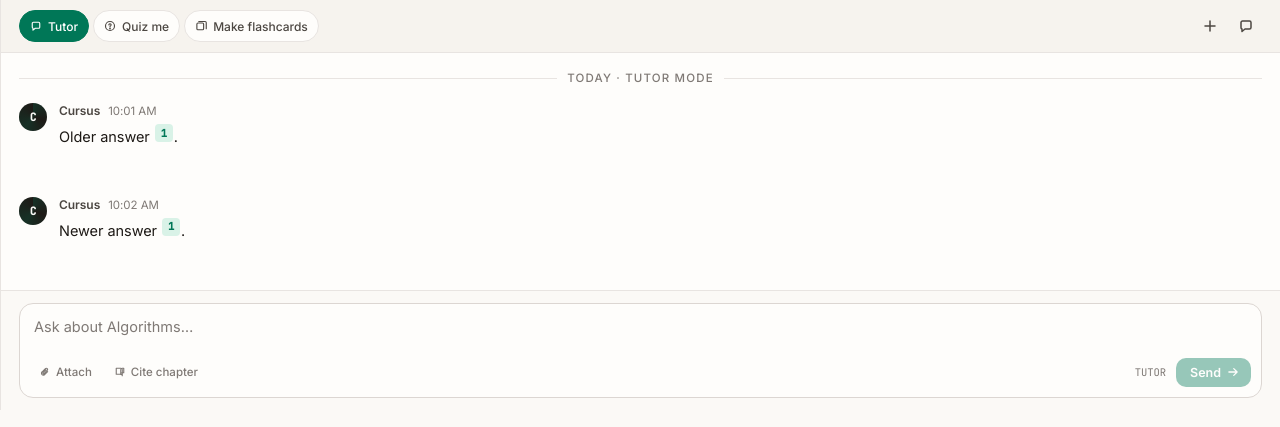
Test: ChatPane citations › opens the citation attached to the clicked assistant message
The width and height of the screenshot is (1280, 427).
Expected: the text "Older answer 1 ." is shown, [59, 124, 178, 145]
Expected: the text "Newer answer 1 ." is shown, [59, 218, 185, 239]
Click the button with class "cite" next to "Older answer" at (164,133), box [155, 124, 173, 142]
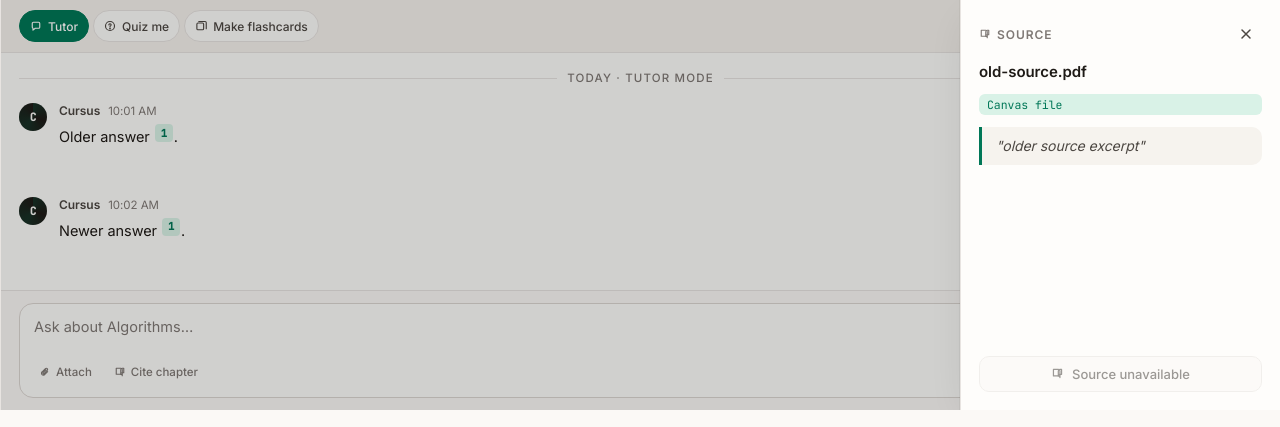
Now the text "old-source.pdf" is shown, box [979, 62, 1087, 81]
Now the text "\"older source excerpt\"" is shown, box [979, 126, 1262, 165]
